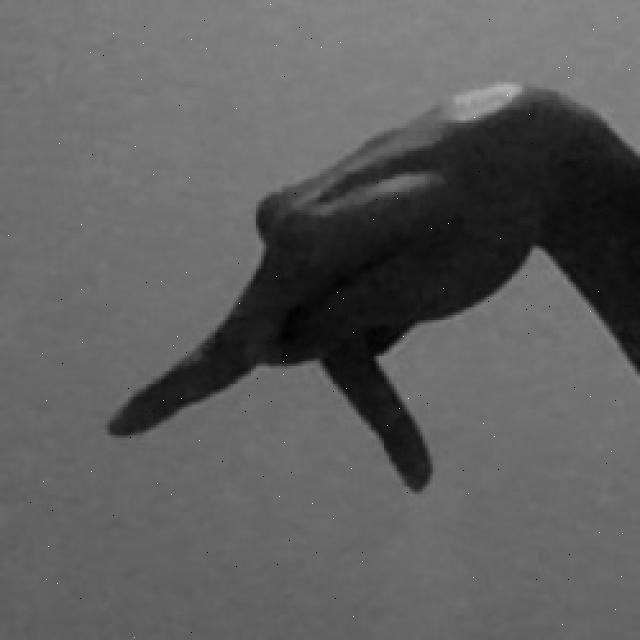P: (100, 74, 640, 504)
